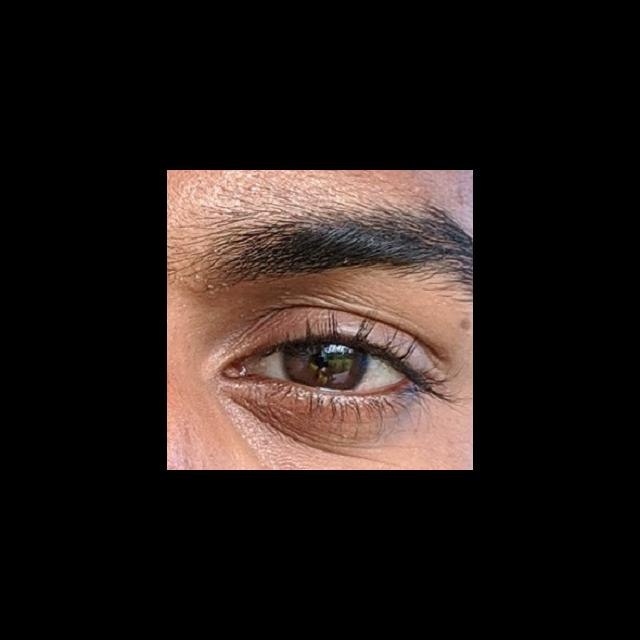eye: (258, 338, 406, 394)
iris: (282, 340, 367, 390)
